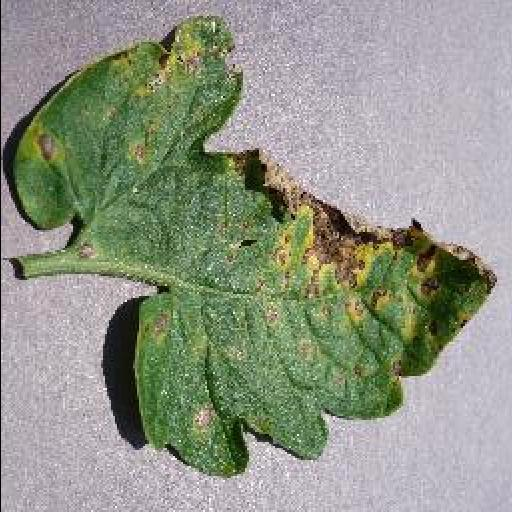disease_tomato: (14, 19, 498, 480)
